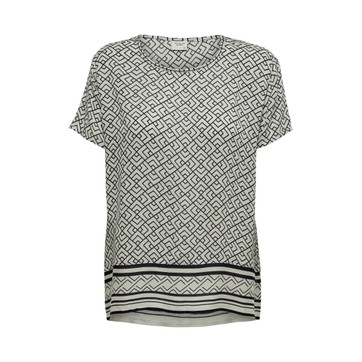C_T-shirt: (76, 35, 302, 333)
